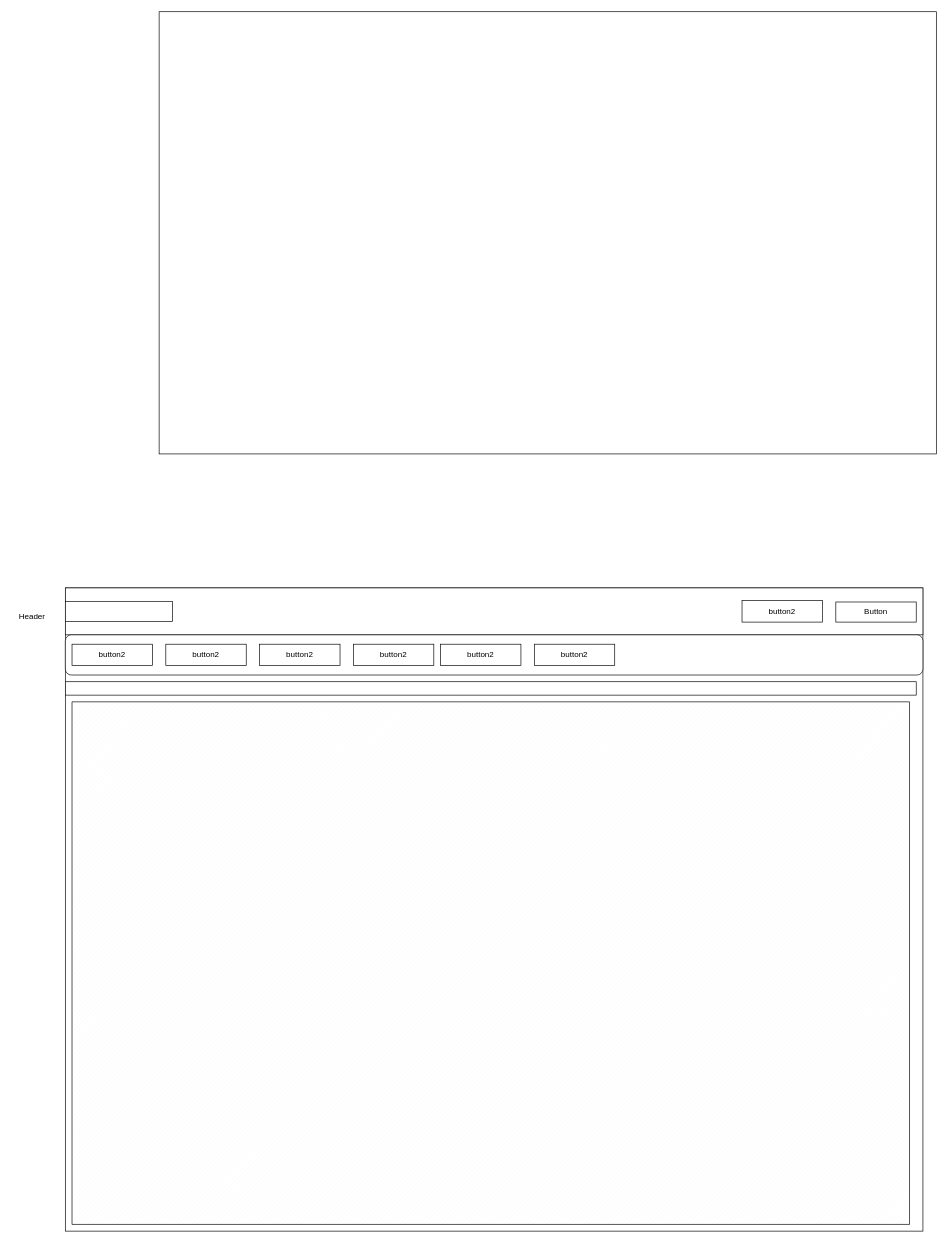
The diagram is 948 pixels wide and 1243 high, and some of its shapes have lost their labels. Each missing label, with the centre of its shape:
"formula/fx" belongs at [490,688].
"projectname" belongs at [119,611].
